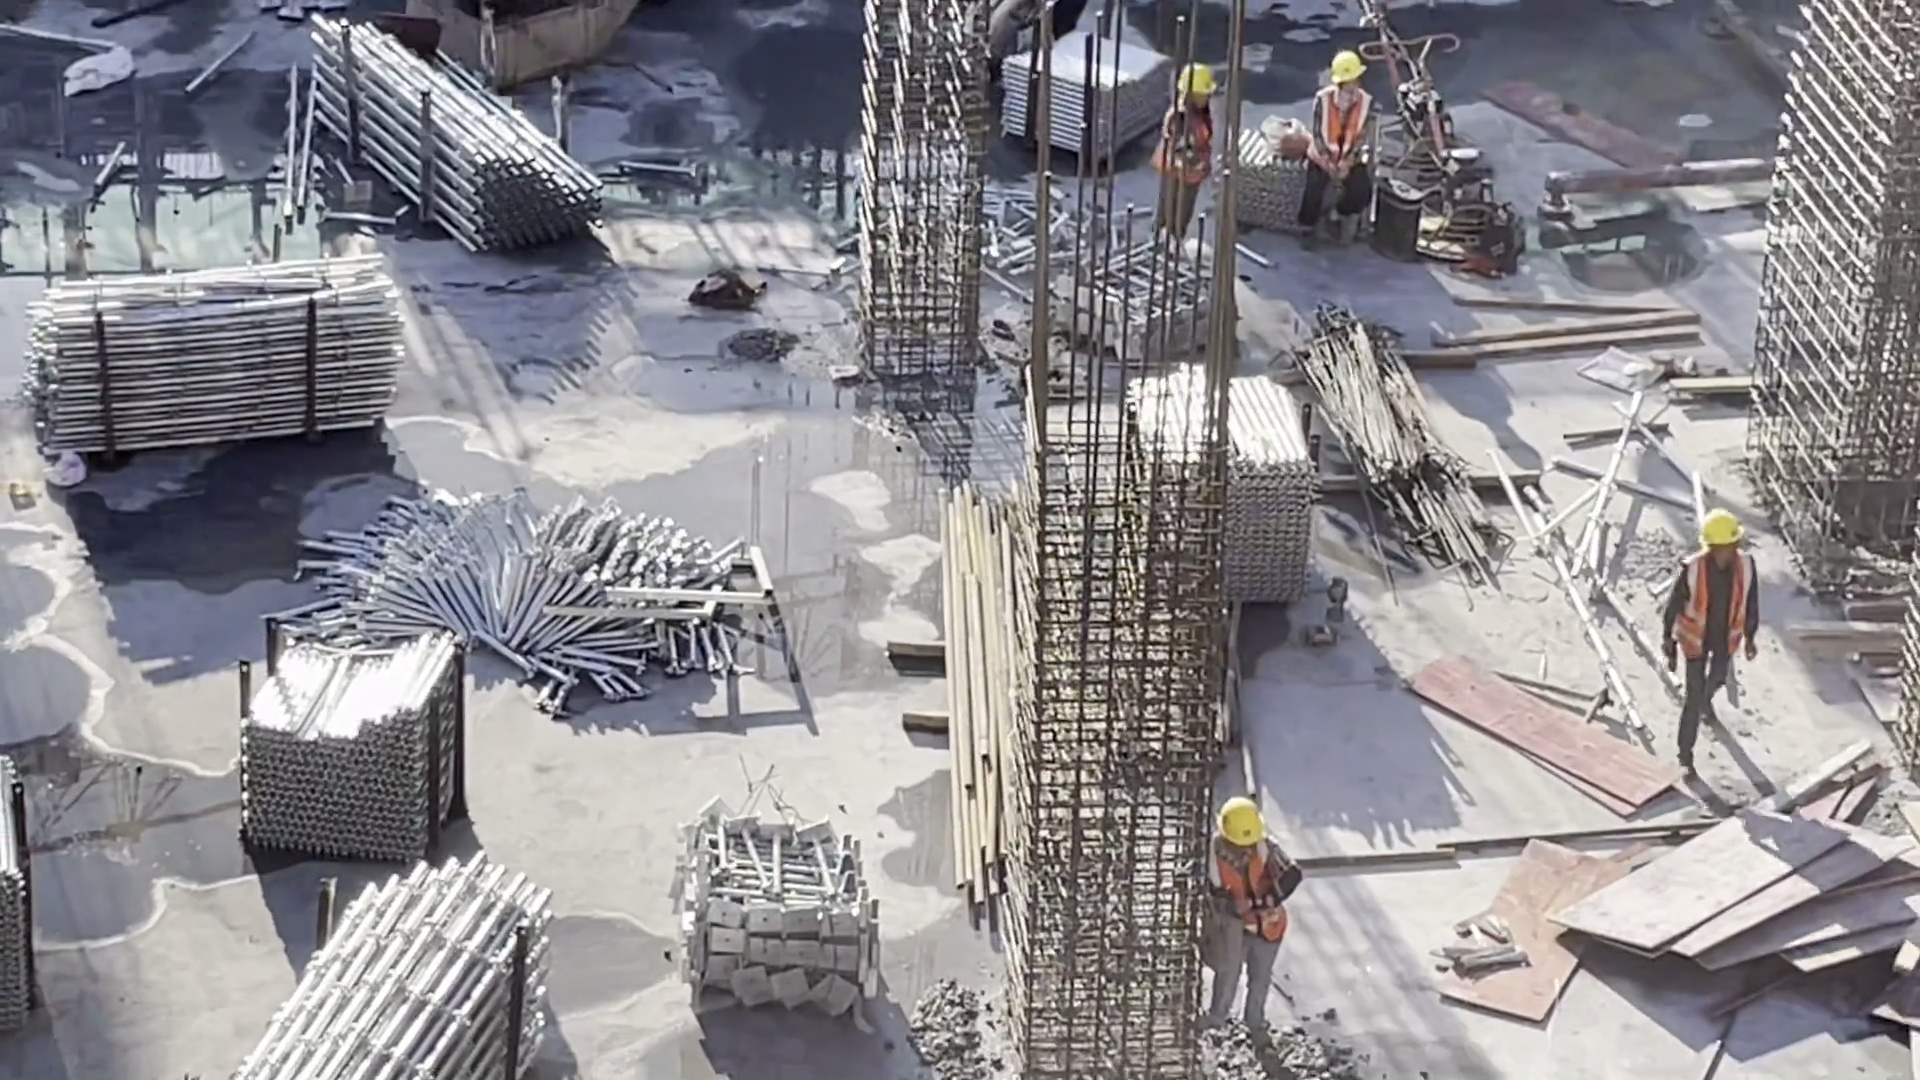board: (1564, 805, 1920, 972)
helmet: (1696, 509, 1740, 556), (1219, 802, 1258, 848), (1177, 61, 1215, 100), (1328, 54, 1364, 87)
person: (1656, 511, 1763, 775), (1197, 794, 1307, 1042), (1155, 56, 1230, 250), (1315, 52, 1378, 246)
scaffold: (301, 478, 783, 702), (214, 846, 576, 1080), (300, 3, 601, 283), (16, 252, 432, 447), (225, 614, 511, 849), (677, 783, 924, 1052), (1140, 378, 1321, 636), (1004, 193, 1224, 360), (999, 24, 1175, 146)
vest: (1201, 839, 1305, 940), (1675, 555, 1758, 656), (1306, 87, 1376, 174), (1162, 99, 1222, 193)
